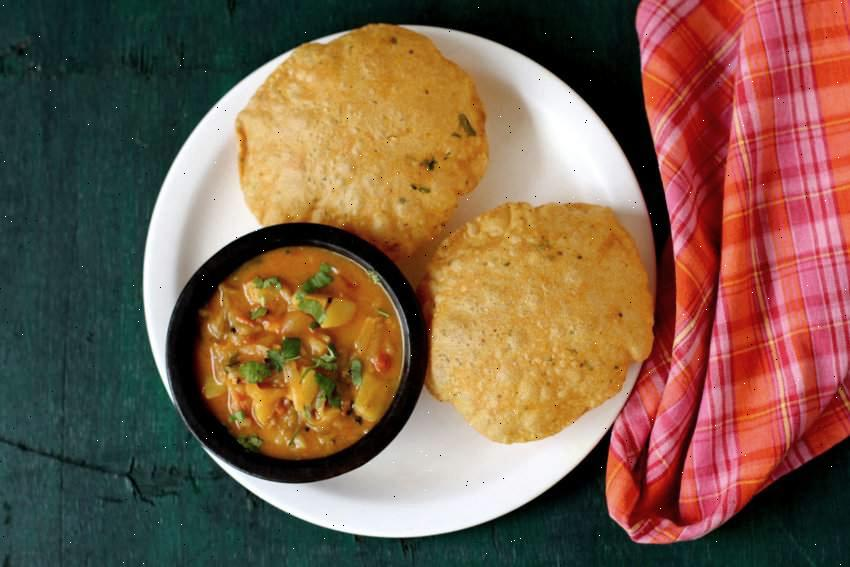puri: (409, 30, 646, 454)
